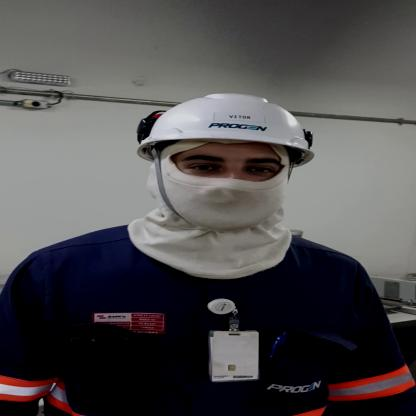Balaclava: (132, 146, 297, 276)
Capacete: (123, 90, 325, 166)
